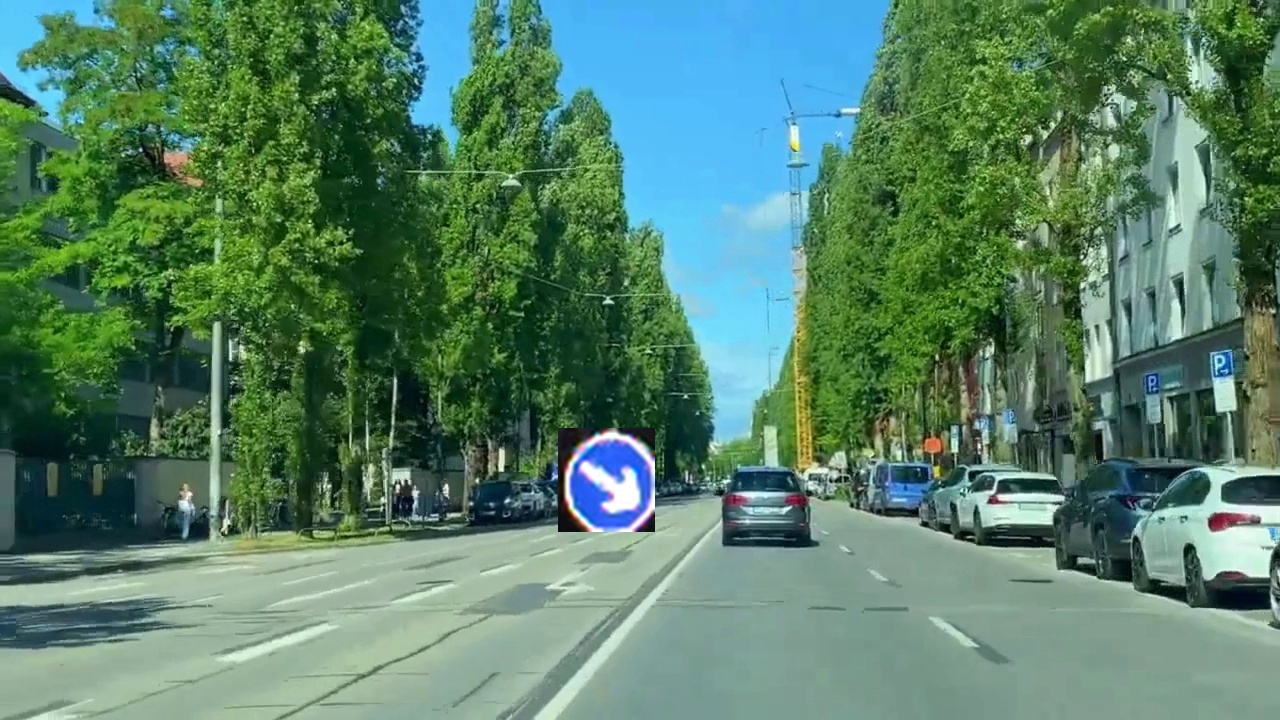Keep right: (558, 428, 655, 532)
